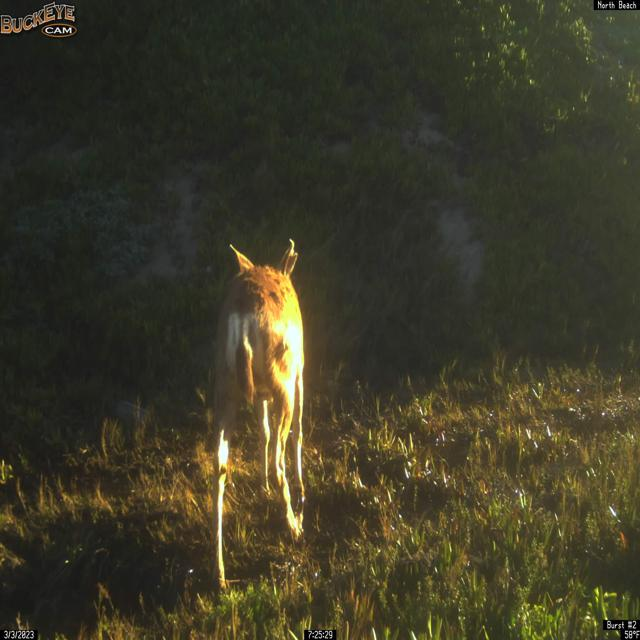deer: (208, 237, 307, 592)
